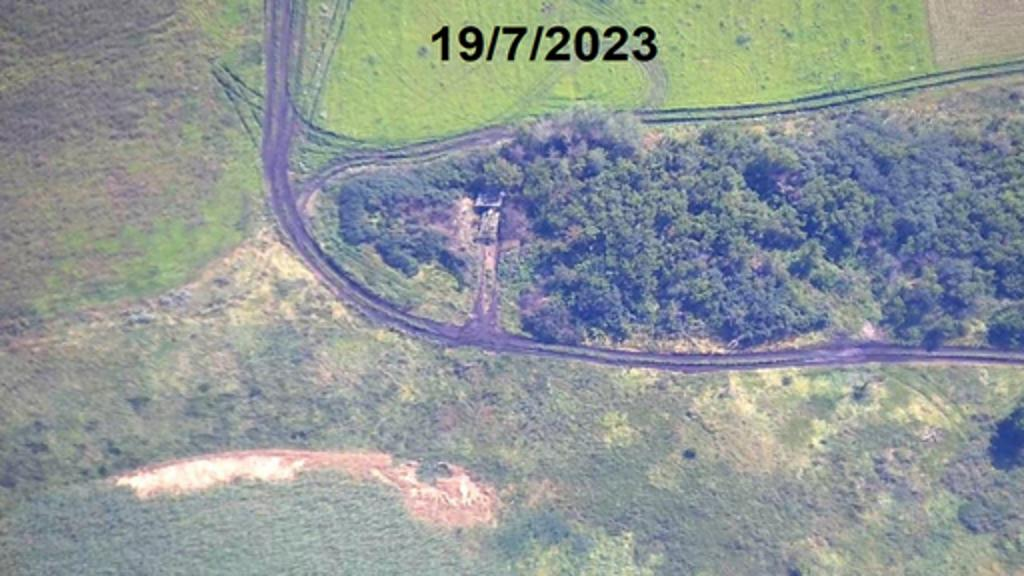ART: (466, 196, 506, 246)
